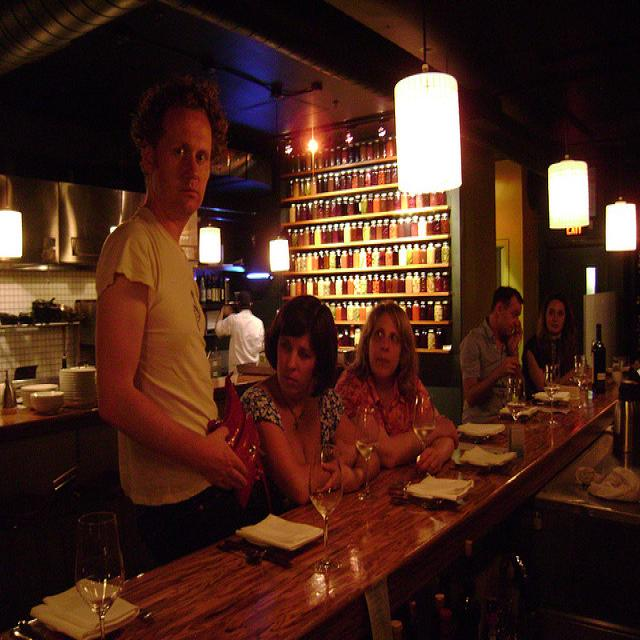Bottle: (582, 322, 629, 404)
Cup: (63, 491, 109, 627), (347, 392, 381, 511), (311, 449, 341, 579), (411, 375, 435, 462), (544, 342, 566, 431)
People: (82, 66, 221, 513), (267, 303, 344, 506), (357, 282, 410, 459), (468, 266, 522, 421), (533, 284, 582, 416), (221, 271, 268, 394)
Table: (0, 357, 628, 640)
